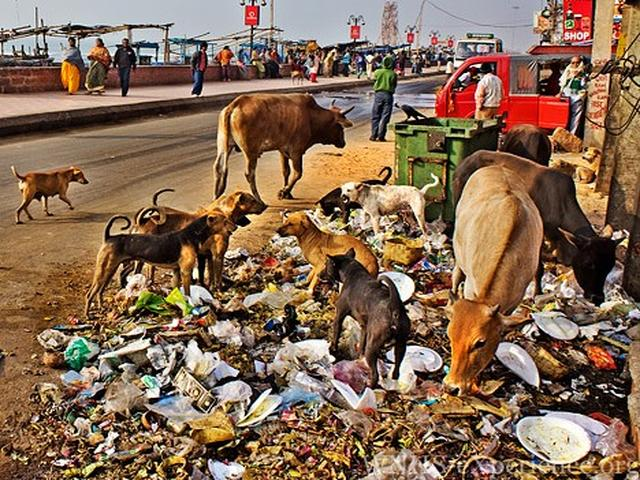garbage: (77, 324, 324, 450), (514, 332, 608, 450)
